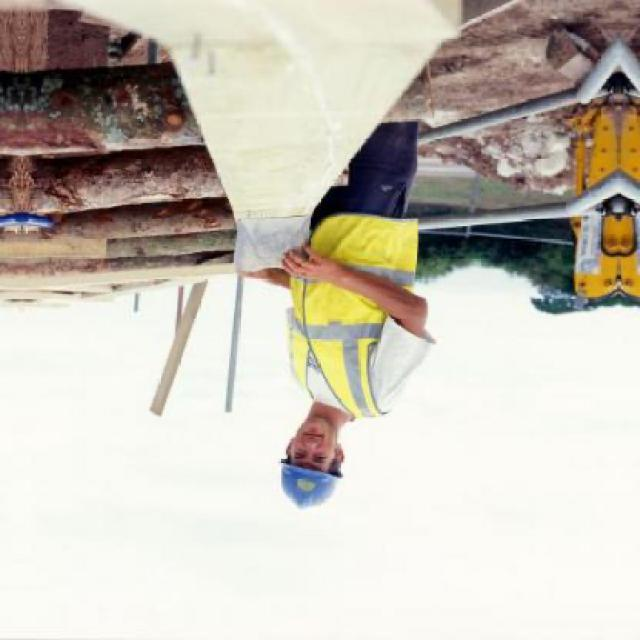safetyhelmet: (267, 412, 355, 518)
